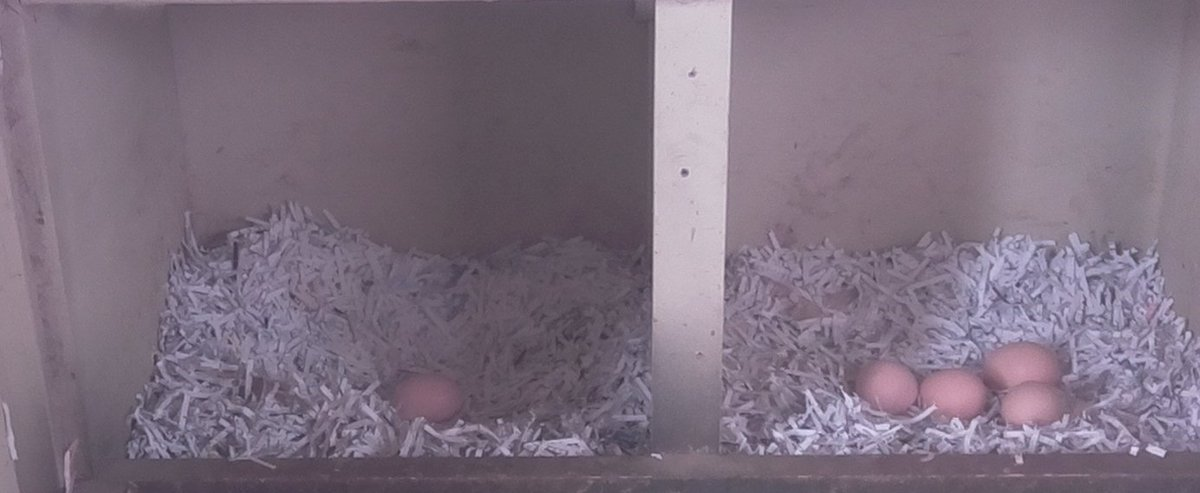egg: (384, 370, 470, 428), (850, 356, 923, 421), (915, 364, 992, 423), (986, 338, 1067, 391), (993, 383, 1076, 432)
